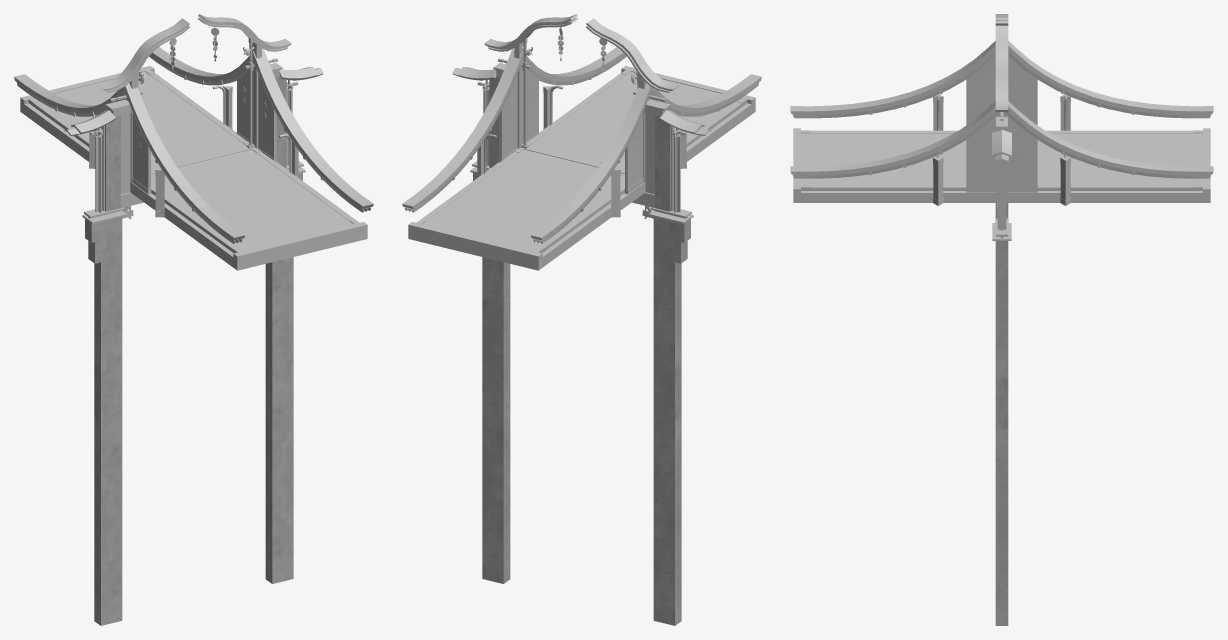
File: SM_Cit_Bri_02AL.fbx
3 renders of one model, left to right at view 1: azimuth 30°, elevation 25°; view 2: azimuth 150°, elevation 25°; view 3: azimuth 270°, elevation 25°, orthographic. The views are drawn at different scales.
Parts seen in each view (by area): view 1: SM_Cit_Bri_02AL.mo; view 2: SM_Cit_Bri_02AL.mo; view 3: SM_Cit_Bri_02AL.mo.
Part boxes in pixels (box(x1,y1,x2,y2)): SM_Cit_Bri_02AL.mo: box(14, 14, 373, 625); SM_Cit_Bri_02AL.mo: box(402, 14, 761, 625); SM_Cit_Bri_02AL.mo: box(790, 14, 1213, 625).
Bounding box in the file's own units: 15.83 × 34.6 × 23.75.
